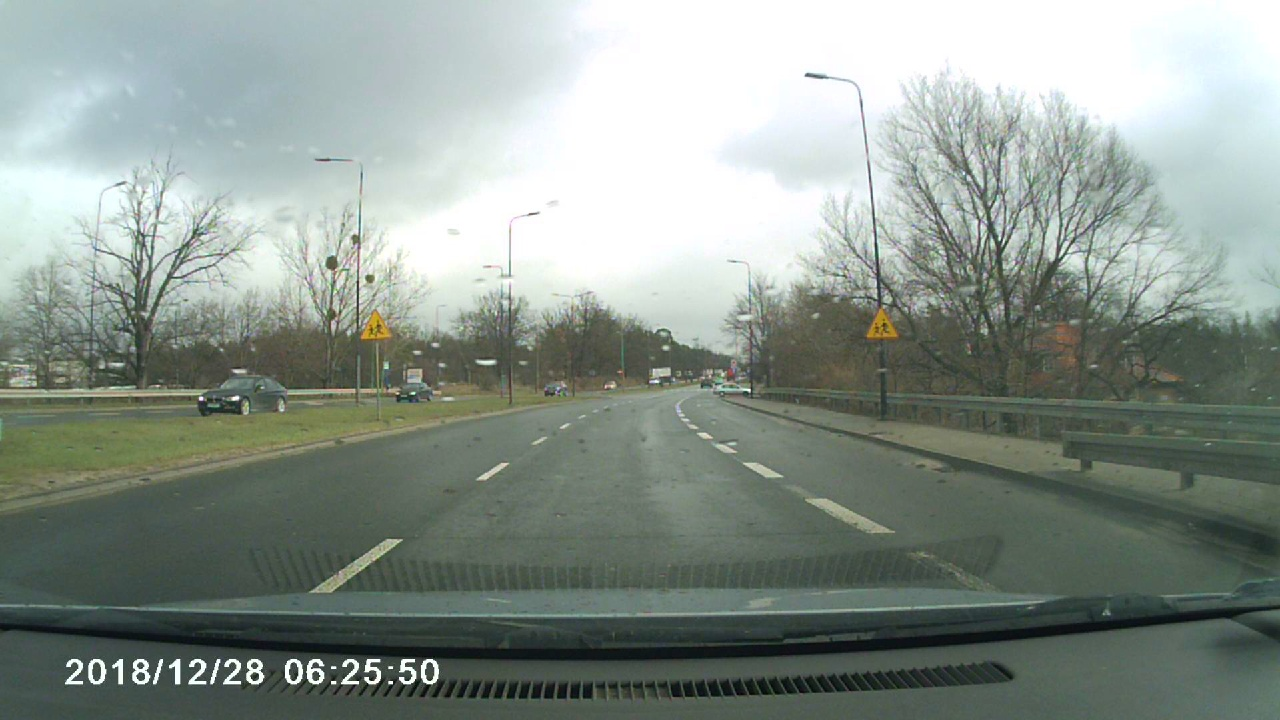A17: (862, 305, 902, 342), (357, 306, 393, 341)
